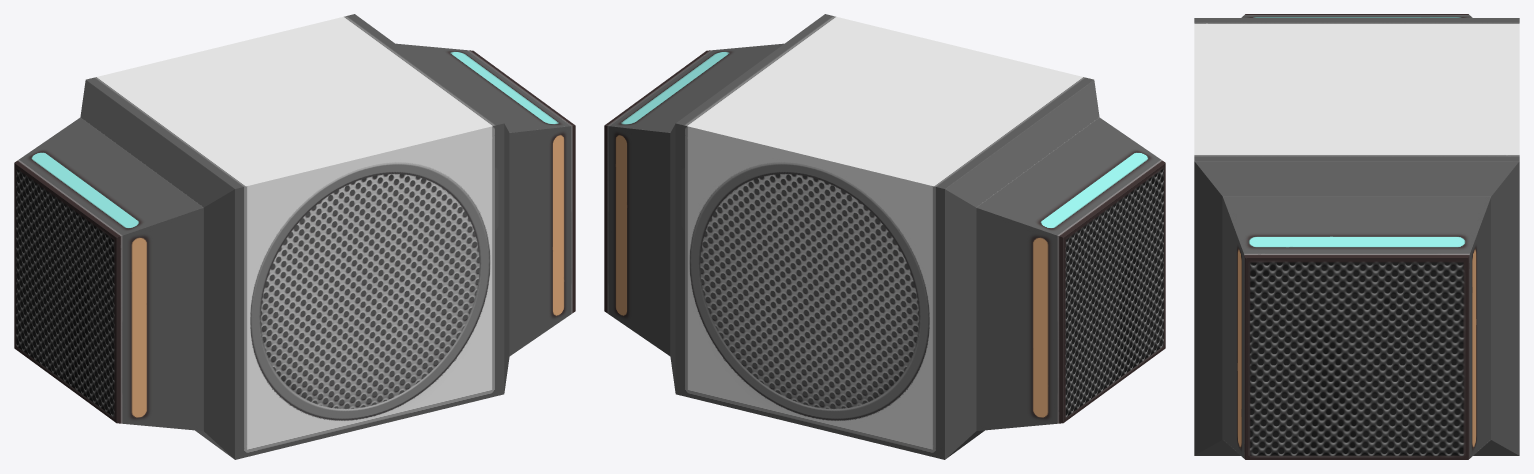
Rendered from anchor1.fbx.
3 views of the same model, side by side, from view 1: azimuth 30°, elevation 25°; view 2: azimuth 150°, elevation 25°; view 3: azimuth 270°, elevation 25° (orthographic). The views are drawn at different scales.
Parts seen in each view (by area): view 1: pCube2; view 2: pCube2; view 3: pCube2.
Part boxes in pixels (x1,y1,x2,y2): pCube2: (14,14,575,459); pCube2: (604,14,1165,459); pCube2: (1194,14,1519,459).
Bounding box in the file's own units: 4.68 × 2.64 × 2.64.
1 material, 1 textured.
